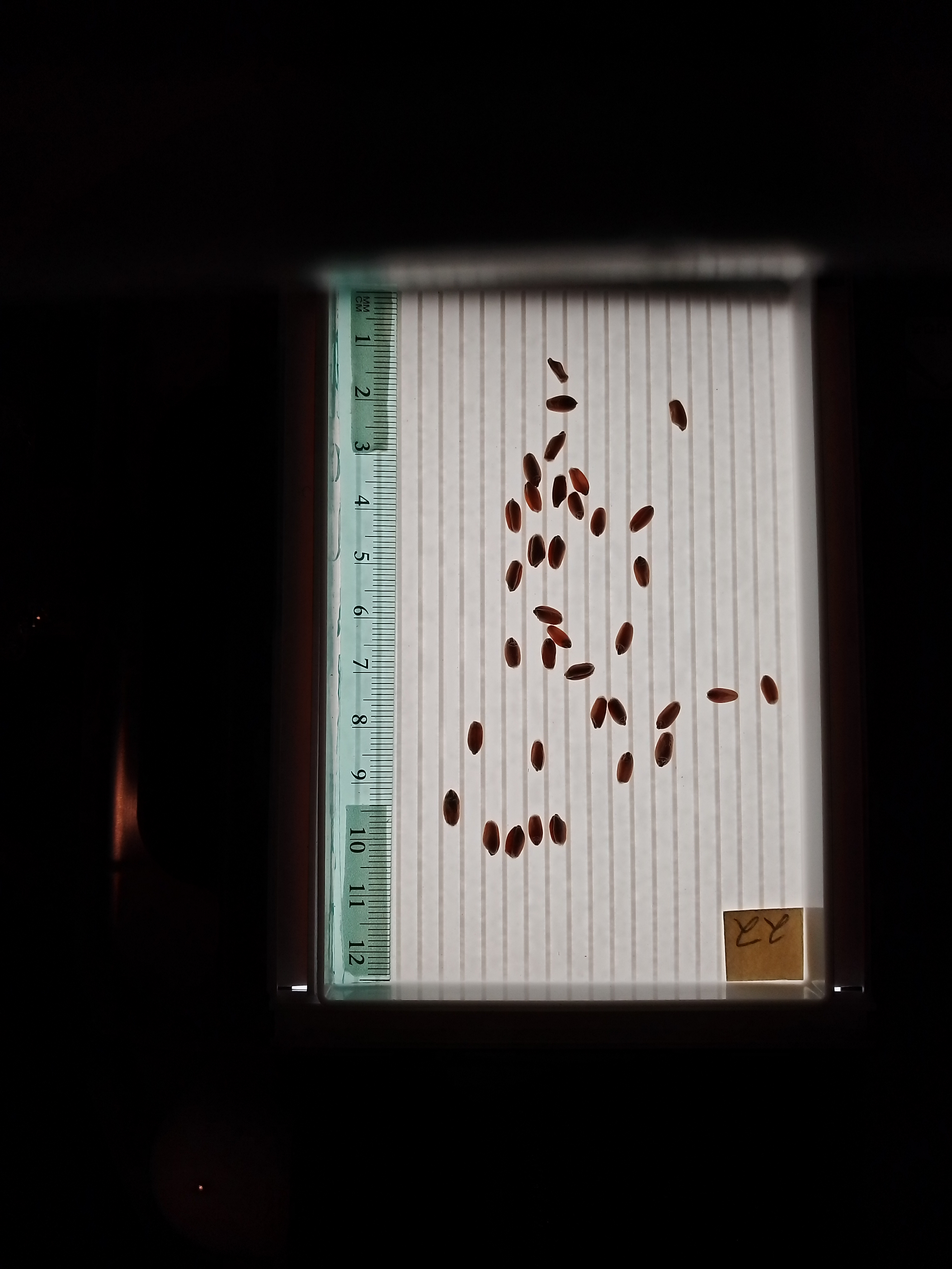seed mask: (655, 733, 674, 767), (657, 702, 680, 730), (505, 826, 525, 858), (630, 506, 654, 532), (443, 791, 460, 826), (544, 433, 565, 461), (548, 536, 565, 569), (523, 454, 541, 485), (615, 623, 633, 654), (760, 676, 779, 705), (483, 822, 499, 856), (569, 468, 589, 495), (546, 396, 577, 413), (528, 536, 545, 567), (524, 483, 542, 512), (535, 605, 562, 624), (670, 400, 687, 430), (506, 499, 521, 533), (633, 557, 650, 587), (549, 815, 566, 845), (566, 663, 594, 681), (506, 561, 522, 592), (591, 697, 607, 728), (617, 753, 633, 784), (708, 687, 737, 704), (608, 698, 626, 725), (548, 627, 571, 648), (548, 358, 567, 382), (505, 638, 520, 668), (468, 723, 483, 753), (528, 815, 543, 845), (568, 493, 585, 519), (552, 476, 566, 507), (591, 508, 606, 536), (530, 741, 544, 771), (542, 640, 556, 669)
